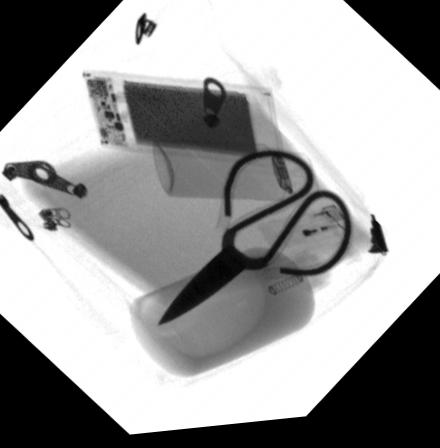Lighter: (254, 209, 359, 258)
Powerbank: (78, 72, 283, 174)
Scissors: (155, 155, 350, 329)
Sprayer: (150, 148, 321, 208)
